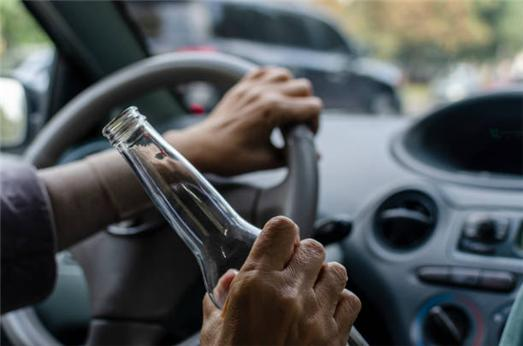alcohol: (100, 104, 368, 345)
